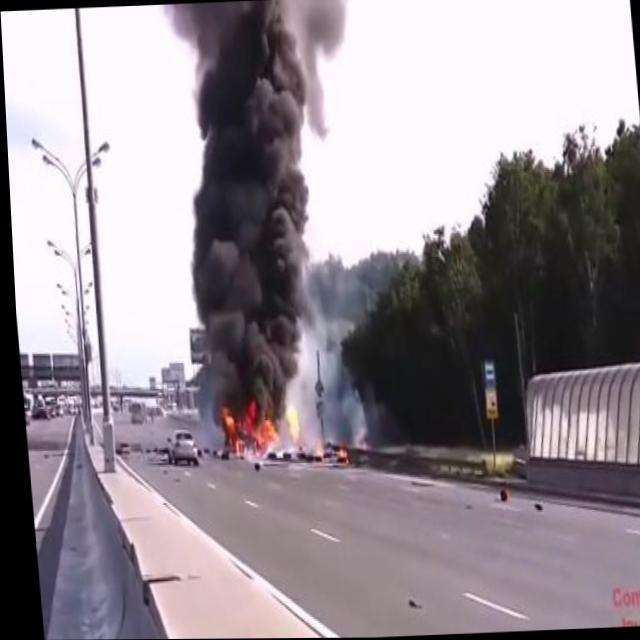fire: (211, 394, 301, 464), (307, 440, 343, 464)
